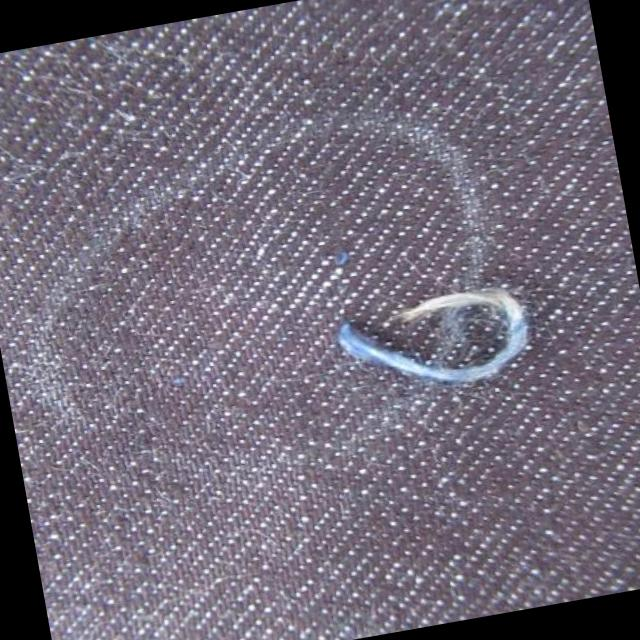Stain: (281, 90, 523, 455), (0, 157, 245, 434)
Thread: (327, 274, 540, 406)
